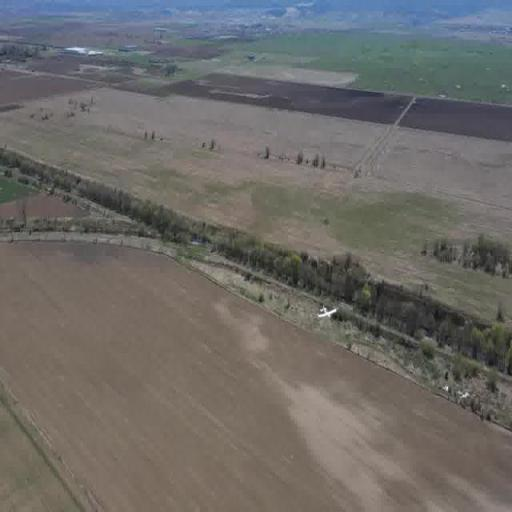uav: (315, 300, 343, 328)
